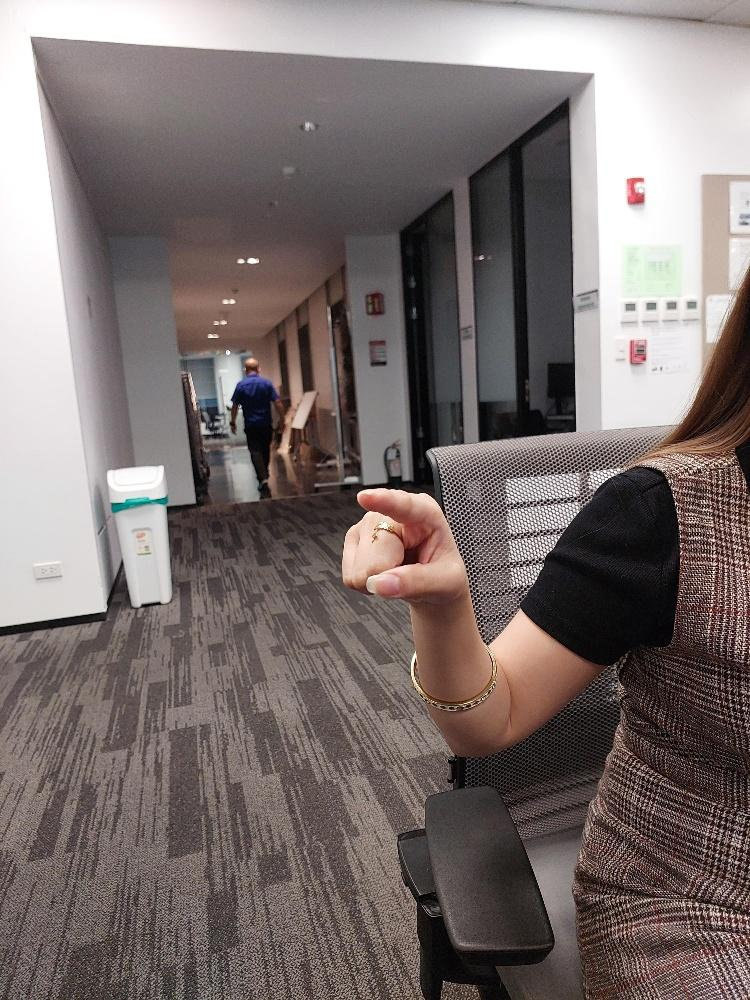z: (339, 484, 470, 609)
